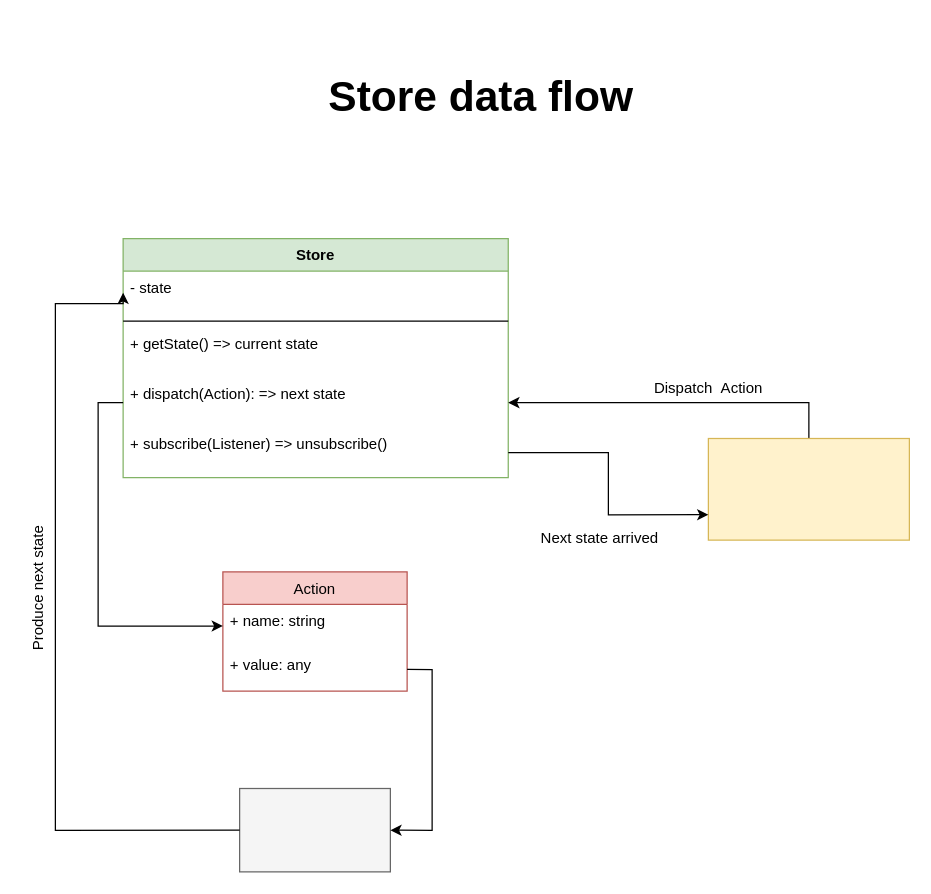
Image size: 931x894. Some labels were removed from this diagram. The shapes that lost their labels are listed below. From the top down, each one's box as (x1, y1, x2, y2) in pixels, then its label:
(707, 437, 909, 540): Listener
(238, 787, 390, 872): Reducer
